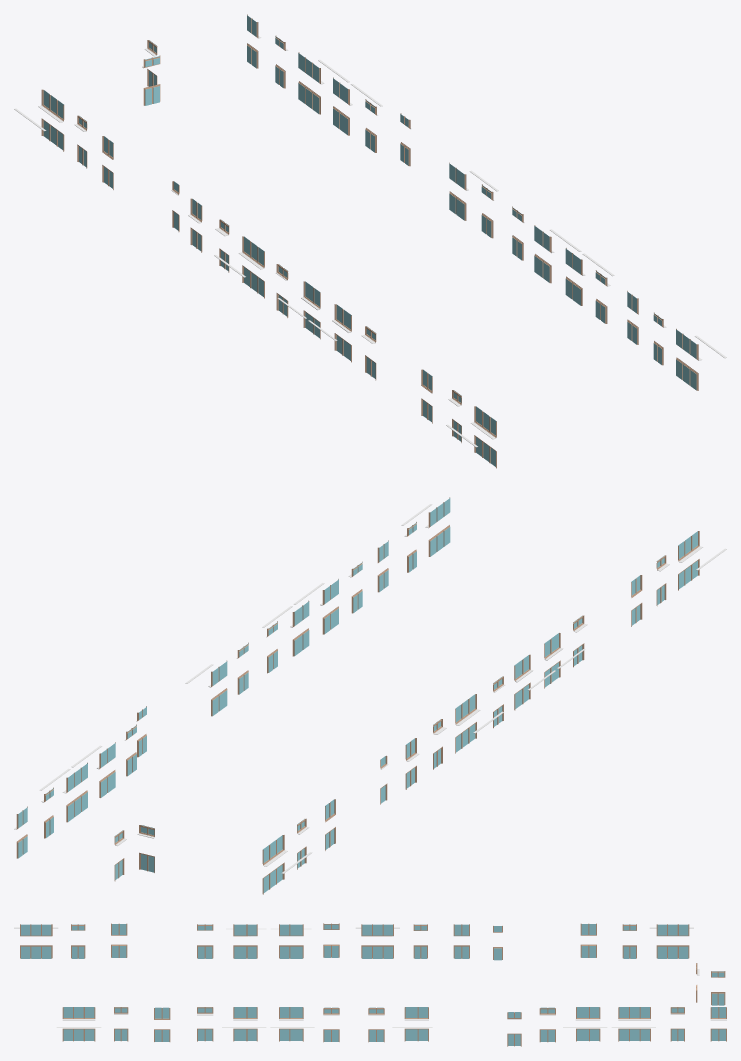
File: window_2.fbx
The picture shows the model from 3 angles, top to bottom: view 1: azimuth 30°, elevation 25°; view 2: azimuth 150°, elevation 25°; view 3: azimuth 270°, elevation 25°; orthographic projection. The views are drawn at different scales.
Visible parts, largest first — view 1: window_2; view 2: window_2; view 3: window_2.
Part boxes in pixels (box(x1,y1,x2,y2)): window_2: box(14, 14, 726, 468); window_2: box(14, 497, 726, 894); window_2: box(14, 923, 726, 1046).
Size of the model in its own units: 2334 by 370 by 6992.
